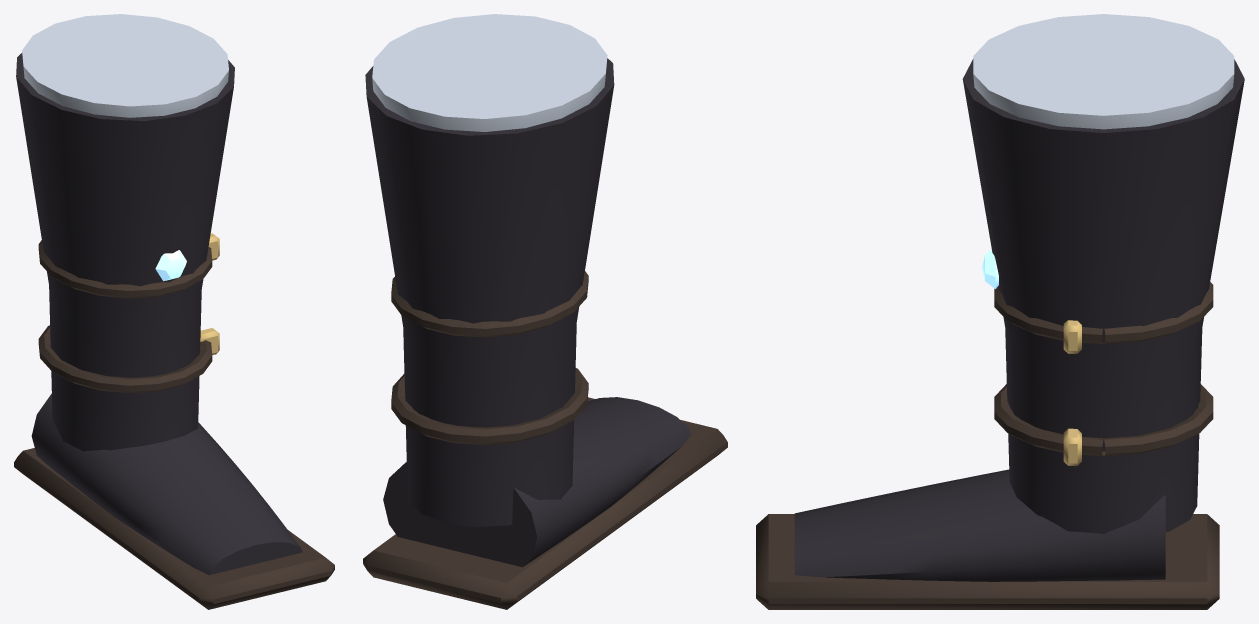
File: depth_gloomthread_treads.glb
The picture shows the model from 3 angles, left to right: view 1: azimuth 30°, elevation 25°; view 2: azimuth 150°, elevation 25°; view 3: azimuth 270°, elevation 25°; orthographic projection. The views are drawn at different scales.
Visible parts, largest first — view 1: depth_gloomthread_treads; view 2: depth_gloomthread_treads; view 3: depth_gloomthread_treads.
Part boxes in pixels (box(x1,y1,x2,y2)): depth_gloomthread_treads: box(14, 14, 334, 609); depth_gloomthread_treads: box(363, 14, 727, 609); depth_gloomthread_treads: box(756, 14, 1244, 609).
Size of the model in its own units: 0.166 by 0.365 by 0.3163.
